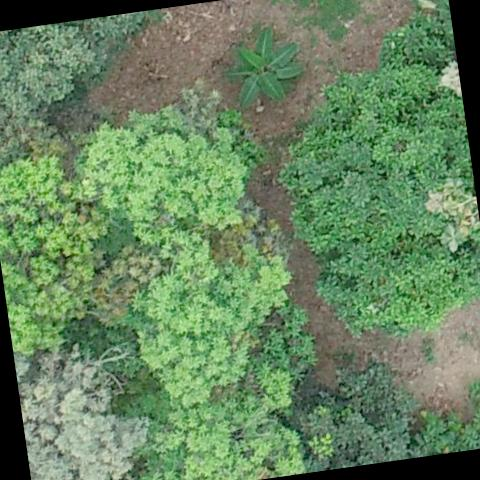Banana-plant: (215, 18, 312, 116)
